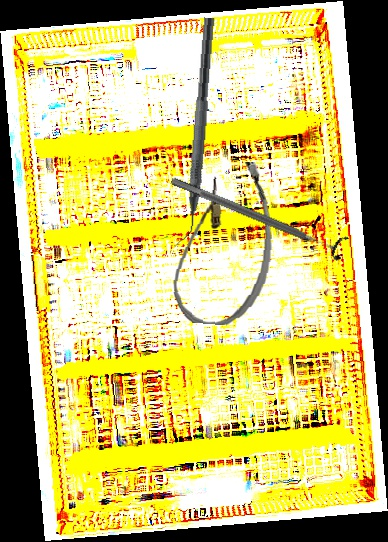Cannula: (168, 156, 280, 329)
Chopper: (171, 16, 216, 249)
Fixation Ring: (166, 167, 350, 263)
